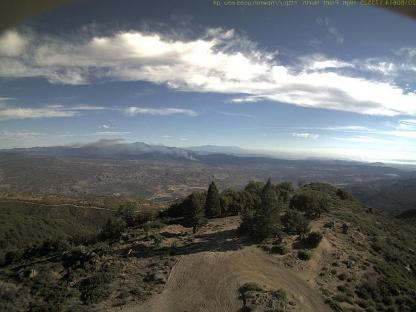smoke: (80, 132, 204, 164)
